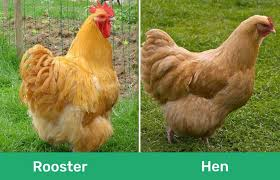buff: (212, 7, 277, 114), (65, 1, 125, 82)
